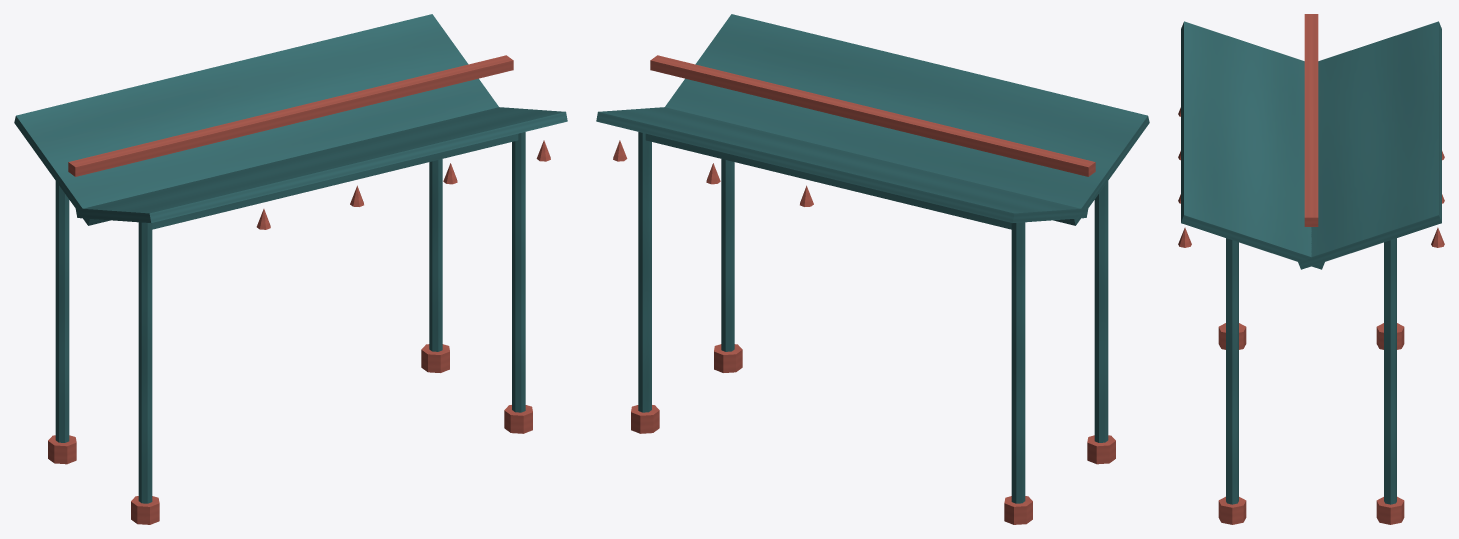
Rendered from atlas100-s031-a08.lod1.glb.
The picture shows the model from 3 angles, left to right: view 1: azimuth 30°, elevation 25°; view 2: azimuth 150°, elevation 25°; view 3: azimuth 270°, elevation 25°; orthographic projection. The views are drawn at different scales.
Visible parts, largest first — view 1: atlas100-s031-a08:part-010, atlas100-s031-a08:part-011, atlas100-s031-a08:part-022, atlas100-s031-a08:part-002, atlas100-s031-a08:part-006, atlas100-s031-a08:part-000, atlas100-s031-a08:part-009, atlas100-s031-a08:part-004, atlas100-s031-a08:part-005, atlas100-s031-a08:part-003, atlas100-s031-a08:part-007, atlas100-s031-a08:part-001; view 2: atlas100-s031-a08:part-011, atlas100-s031-a08:part-010, atlas100-s031-a08:part-022, atlas100-s031-a08:part-000, atlas100-s031-a08:part-004, atlas100-s031-a08:part-002, atlas100-s031-a08:part-008, atlas100-s031-a08:part-006, atlas100-s031-a08:part-007, atlas100-s031-a08:part-001, atlas100-s031-a08:part-005, atlas100-s031-a08:part-003; view 3: atlas100-s031-a08:part-010, atlas100-s031-a08:part-011, atlas100-s031-a08:part-004, atlas100-s031-a08:part-006, atlas100-s031-a08:part-022, atlas100-s031-a08:part-005, atlas100-s031-a08:part-007, atlas100-s031-a08:part-001, atlas100-s031-a08:part-003.
Part boxes in pixels (<box>): atlas100-s031-a08:part-010: <box>14,14,498,225</box>; atlas100-s031-a08:part-011: <box>75,107,567,222</box>; atlas100-s031-a08:part-022: <box>68,55,513,176</box>; atlas100-s031-a08:part-002: <box>138,222,152,503</box>; atlas100-s031-a08:part-006: <box>512,132,525,412</box>; atlas100-s031-a08:part-000: <box>55,181,69,442</box>; atlas100-s031-a08:part-009: <box>152,133,518,229</box>; atlas100-s031-a08:part-004: <box>429,159,442,351</box>; atlas100-s031-a08:part-005: <box>421,344,449,372</box>; atlas100-s031-a08:part-003: <box>131,496,159,524</box>; atlas100-s031-a08:part-007: <box>504,405,532,433</box>; atlas100-s031-a08:part-001: <box>48,435,76,464</box>; atlas100-s031-a08:part-011: <box>665,14,1149,225</box>; atlas100-s031-a08:part-010: <box>596,107,1088,222</box>; atlas100-s031-a08:part-022: <box>650,55,1095,176</box>; atlas100-s031-a08:part-000: <box>1011,222,1025,503</box>; atlas100-s031-a08:part-004: <box>638,132,651,412</box>; atlas100-s031-a08:part-002: <box>1094,181,1108,442</box>; atlas100-s031-a08:part-008: <box>645,133,1011,229</box>; atlas100-s031-a08:part-006: <box>721,159,734,351</box>; atlas100-s031-a08:part-007: <box>714,344,742,372</box>; atlas100-s031-a08:part-001: <box>1004,496,1032,524</box>; atlas100-s031-a08:part-005: <box>631,405,659,433</box>; atlas100-s031-a08:part-003: <box>1087,435,1115,464</box>; atlas100-s031-a08:part-010: <box>1298,21,1441,269</box>; atlas100-s031-a08:part-011: <box>1181,21,1324,269</box>; atlas100-s031-a08:part-004: <box>1384,238,1396,504</box>; atlas100-s031-a08:part-006: <box>1226,238,1238,504</box>; atlas100-s031-a08:part-022: <box>1304,14,1318,226</box>; atlas100-s031-a08:part-005: <box>1376,496,1404,524</box>; atlas100-s031-a08:part-007: <box>1218,496,1246,524</box>; atlas100-s031-a08:part-001: <box>1376,323,1404,349</box>; atlas100-s031-a08:part-003: <box>1218,323,1246,349</box>.
Bounding box in the file's own units: 6.1 × 4.41 × 3.38.
2 materials, 2 textured.
